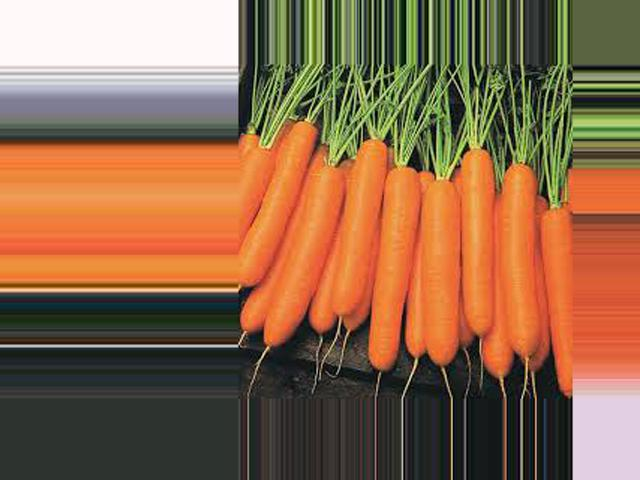carrot: (261, 121, 298, 303)
